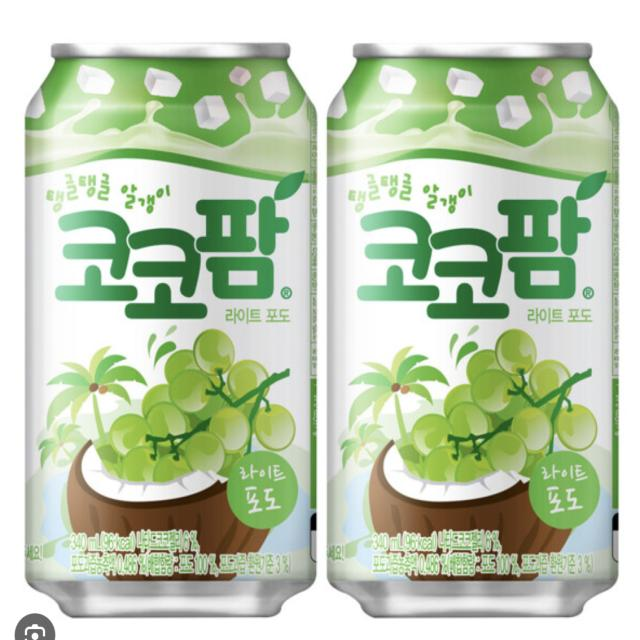recyclable: (314, 23, 635, 617), (6, 24, 326, 618)
